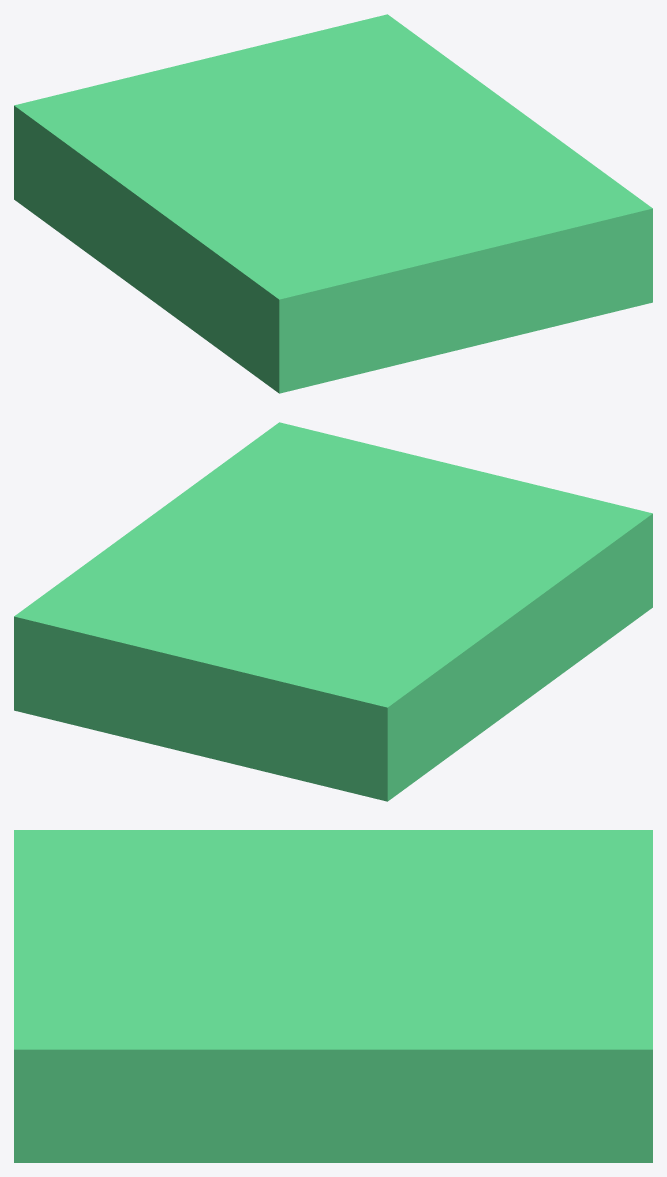
File: rubble_pile_e.glb
The picture shows the model from 3 angles, top to bottom: view 1: azimuth 30°, elevation 25°; view 2: azimuth 150°, elevation 25°; view 3: azimuth 270°, elevation 25°; orthographic projection. The views are drawn at different scales.
Parts seen in each view (by area): view 1: rubble_pile_e-col; view 2: rubble_pile_e-col; view 3: rubble_pile_e-col.
Part boxes in pixels (bbox=[...]): rubble_pile_e-col: bbox=[14, 14, 652, 393]; rubble_pile_e-col: bbox=[14, 422, 652, 801]; rubble_pile_e-col: bbox=[14, 830, 652, 1162].
Bounding box in the file's own units: 2.89 × 0.6954 × 3.56.
